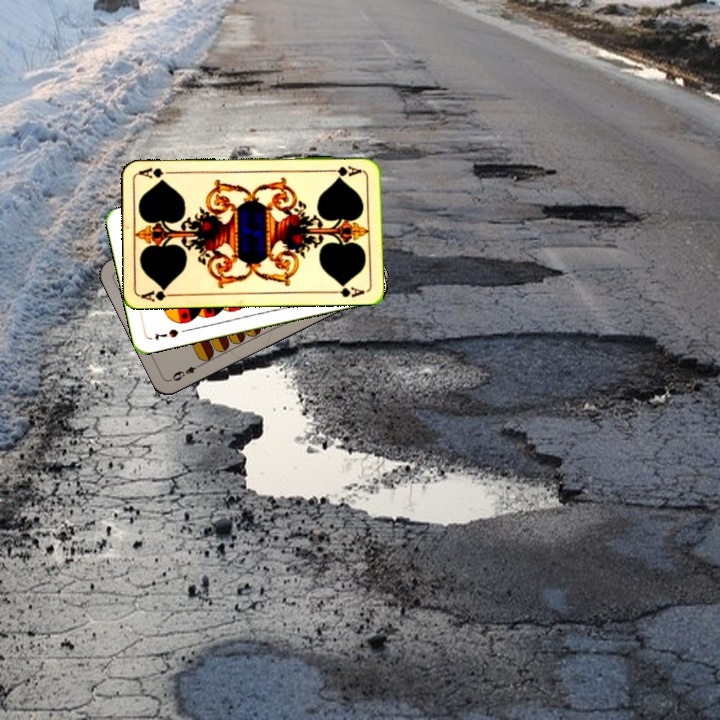E9: (168, 360, 205, 384)
GA: (138, 284, 179, 304), (325, 162, 365, 179)
S7: (150, 325, 181, 343)
